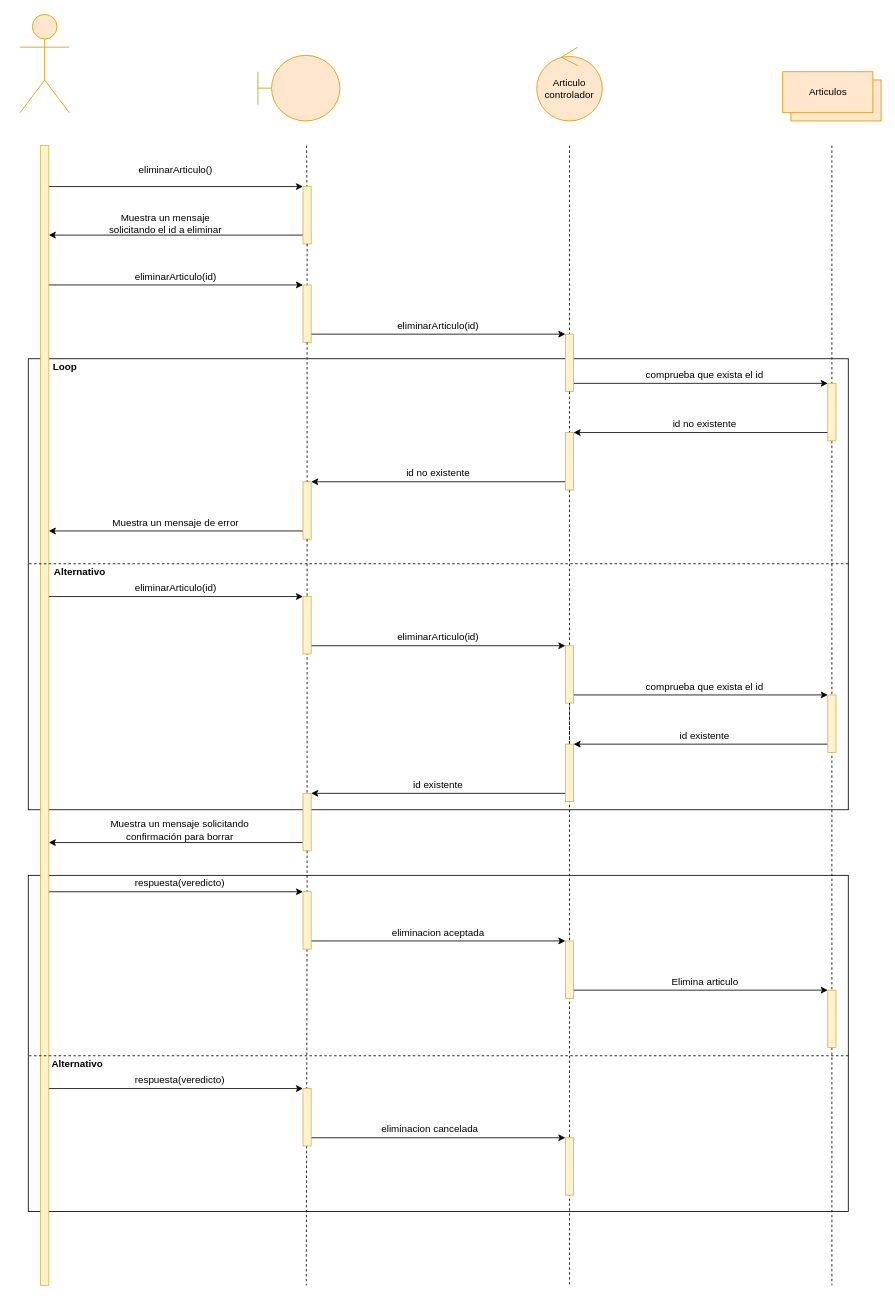
This 895x1301 diagram has some shape labels left out. The shapes that lost their labels are listed below. From the top down, each one's centre as x and y in pixels, then its label:
(44,63): Administrador
(298,88): Articulo vista
